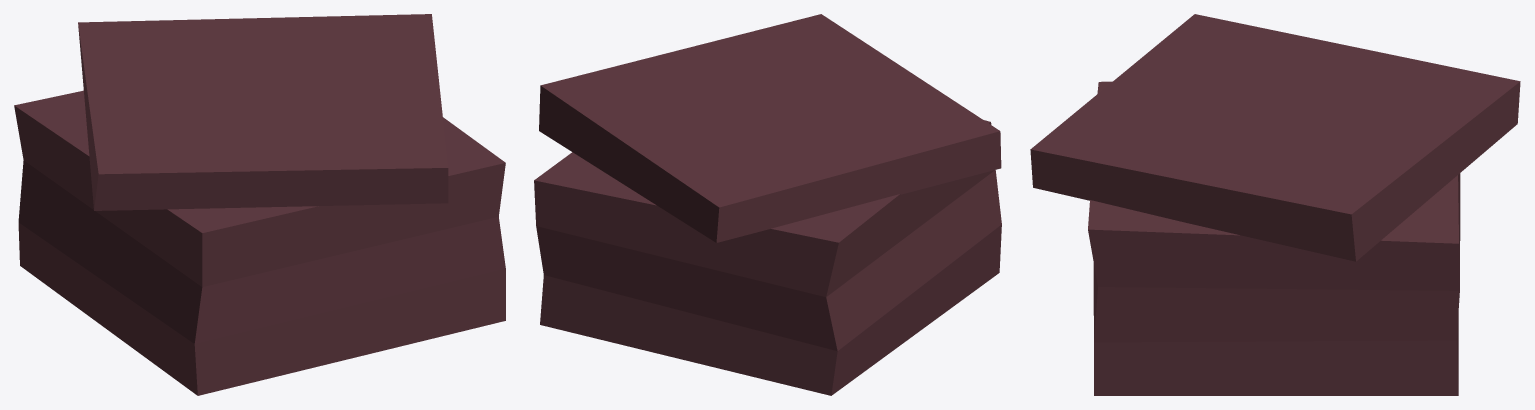
File: napkin-stack.fbx
The picture shows the model from 3 angles, left to right: view 1: azimuth 30°, elevation 25°; view 2: azimuth 150°, elevation 25°; view 3: azimuth 270°, elevation 25°; orthographic projection. The views are drawn at different scales.
Visible parts, largest first — view 1: napkin-stack; view 2: napkin-stack; view 3: napkin-stack.
Part boxes in pixels (x1,y1,x2,y2): napkin-stack: (14,14,505,395); napkin-stack: (534,14,1001,395); napkin-stack: (1030,14,1520,395).
Bounding box in the file's own units: 0.2946 × 0.1381 × 0.2958.
